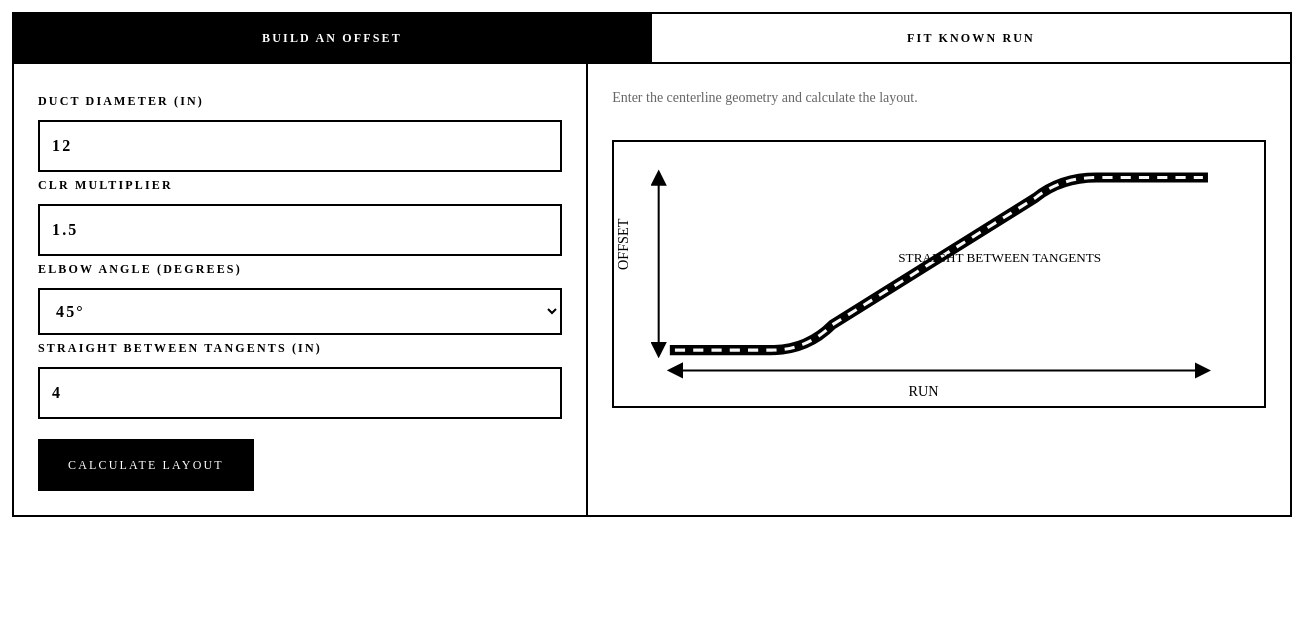
Test case: OffsetCalculator › calculates and rounds the preserved forward-layout fixture
The image size is (1304, 624).
Expected: the field labelled "Duct diameter (in)" is shown, [38,120,562,172]
Expected: the field labelled "CLR multiplier" is shown, [38,204,562,256]
What coordinates should you click on to do the following:
click the button "Calculate layout"
I would click on:
 (146, 465)
Its box is [38,439,254,491].
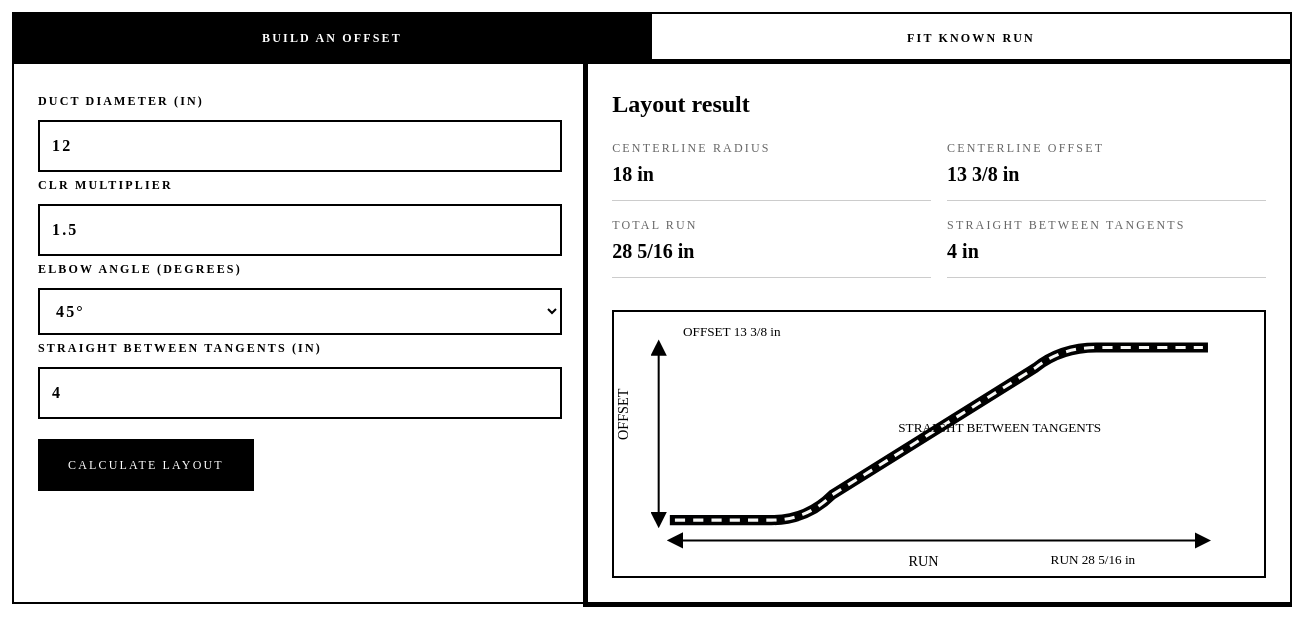
Expected: the picture named "Offset geometry" is shown, [612,310,1266,578]
Expected: the text "13 3/8 in" is shown, [947,163,1019,185]
Expected: the text "28 5/16 in" is shown, [612,240,694,262]
